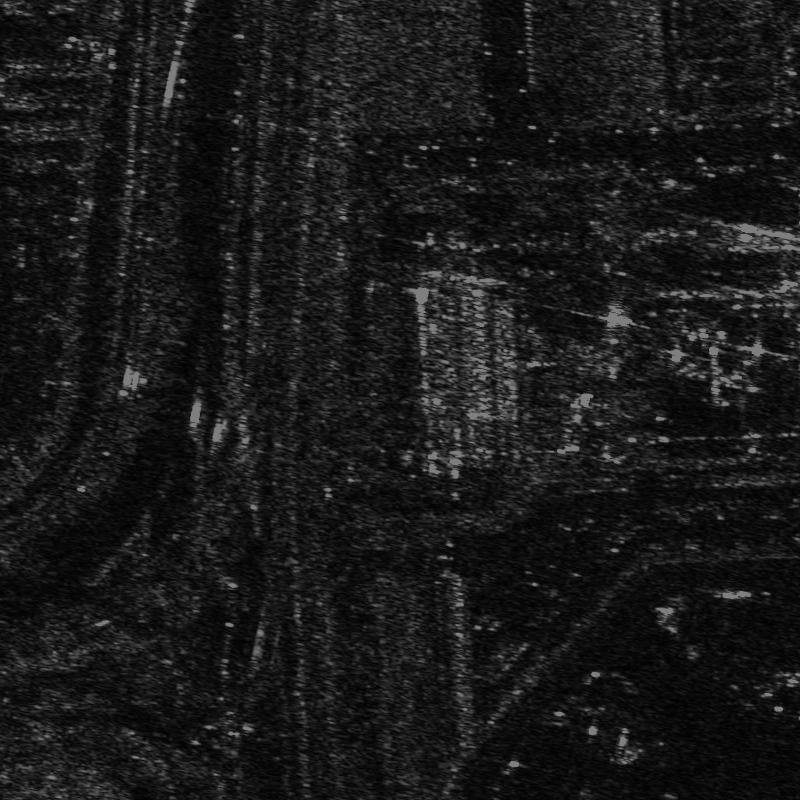Boeing737: (753, 669, 799, 723)
